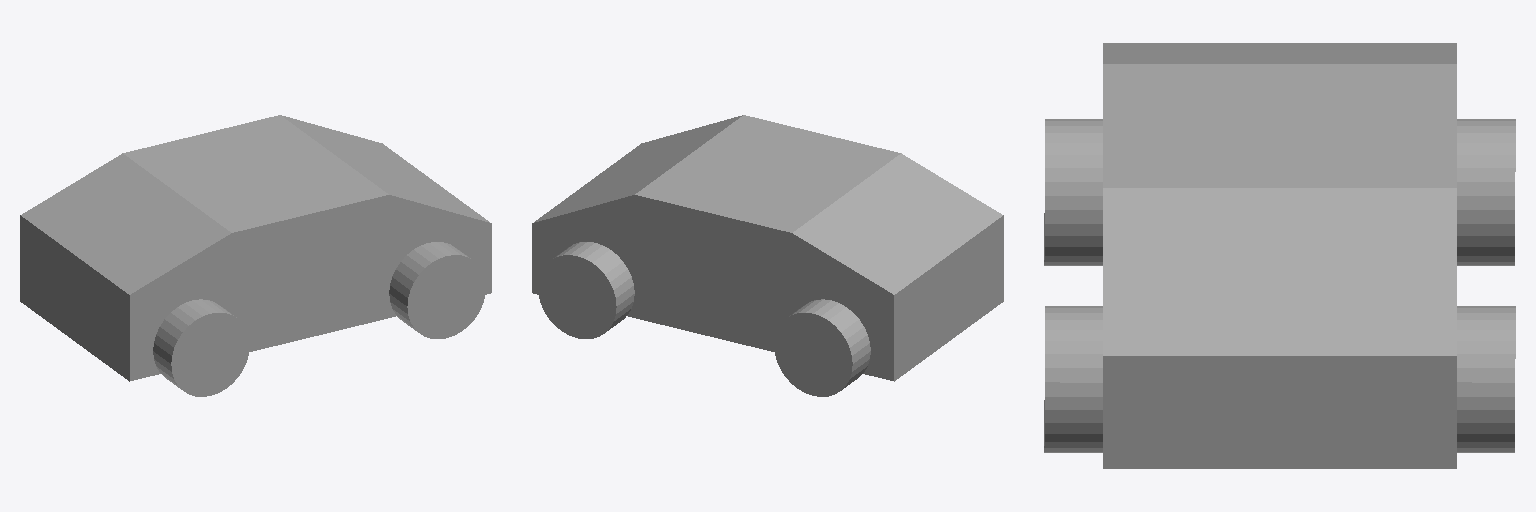
robot.urdf — rover:
<?xml version="1.0" ?>
<!-- =================================================================================== -->
<!-- |    This document was autogenerated by xacro from rover.xacro                    | -->
<!-- |    EDITING THIS FILE BY HAND IS NOT RECOMMENDED                                 | -->
<!-- =================================================================================== -->
<robot name="rover">
  <material name="silver">
    <color rgba="0.700 0.700 0.700 1.000"/>
  </material>
  <material name="wheel_black">
    <color rgba="0.325 0.337 0.353 0.5"/>
  </material>
  <material name="black">
    <color rgba="0.0 0.0 0.0"/>
  </material>
  <link name="base_link">
  </link>
  <link name="body">
    <inertial>
      <origin xyz="-0.003923470762597682 0.0 0.06851926704392347" rpy="0 0 0"/>
      <mass value="4.82539999999999"/>
      <inertia ixx = "0.027449999999999995" iyy = "0.08905" izz = "0.046079999999999996" ixy ="0" ixz ="0" iyz = "0"/>
     </inertial>
    <visual>
      <origin xyz="0 0 0" rpy="0 0 0"/>
      <geometry>
        <mesh filename="package://bot_description/meshes/body.stl" scale="0.001 0.001 0.001"/>
      </geometry>
      <material name="silver"/>
    </visual>
    <collision>
      <origin xyz="0 0 0" rpy="0 0 0"/>
      <geometry>
        <mesh filename="package://bot_description/meshes/body.stl" scale="0.001 0.001 0.001"/>
      </geometry>
    </collision>
  </link>
      
  <joint name="base_joint" type="fixed">
      <parent link="base_link"/>
      <child link="body"/>
      <origin xyz="0 0 0" rpy="0 0 0"/>
  </joint>

  <link name="base_footprint">
  </link>
    
  <joint name="footprint_joint" type="fixed">
      <parent link="base_link"/>
      <child link="base_footprint"/>
      <origin xyz="0 0 0" rpy="0 0 0"/>
  </joint>

  <link name="left_wheel1_1">
    <inertial>
      <origin xyz="0 0 0" rpy="1.57 0 0"/>
      <mass value="0.25"/>
      <inertia ixx ="0.0006583333333333334" iyy = "0.0006583333333333334" izz = "0.0012500000000000002" ixy = "0" ixz = "0" iyz = "0"/>
    </inertial>
    <visual>
      <origin xyz="0 0 0" rpy="1.57 0 0"/>
      <geometry>
        <cylinder length="0.04" radius="0.05"/>
      </geometry>
      <material name="silver"/>
    </visual>
    <collision>
      <origin xyz="0 0 0" rpy="1.57 0 0"/>
      <geometry>
        <cylinder length="0.04" radius="0.05"/>
      </geometry>
    </collision>
  </link>

  <link name="right_wheel1_1">
    <inertial>
      <origin xyz="0 0 0" rpy="1.57 0 0"/>
      <mass value="0.25"/>
      <inertia ixx ="0.0006583333333333334" iyy = "0.0006583333333333334" izz = "0.0012500000000000002" ixy = "0" ixz = "0" iyz = "0"/>
    </inertial>
    <visual>
      <origin xyz="0 0 0" rpy="1.57 0 0"/>
      <geometry>
        <cylinder length="0.04" radius="0.05"/>
      </geometry>
      <material name="silver"/>
    </visual>
    <collision>
      <origin xyz="0 0 0" rpy="1.57 0 0"/>
      <geometry>
        <cylinder length="0.04" radius="0.05"/>
      </geometry>
    </collision>
  </link>

  <link name="left_wheel2_1">
    <inertial>
      <origin xyz="0 0 0" rpy="1.57 0 0"/>
      <mass value="0.25"/>
      <inertia ixx ="0.0006583333333333334" iyy = "0.0006583333333333334" izz = "0.0012500000000000002" ixy = "0" ixz = "0" iyz = "0"/>
    </inertial>
    <visual>
      <origin xyz="0 0 0" rpy="1.57 0 0"/>
      <geometry>
        <cylinder length="0.04" radius="0.05"/>
      </geometry>
      <material name="silver"/>
    </visual>
    <collision>
      <origin xyz="0 0 0" rpy="1.57 0 0"/>
      <geometry>
        <cylinder length="0.04" radius="0.05"/>
      </geometry>
    </collision>
  </link>

  <link name="right_wheel2_1">
    <inertial>
      <origin xyz="0 0 0" rpy="1.57 0 0"/>
      <mass value="0.25"/>
      <inertia ixx ="0.0006583333333333334" iyy = "0.0006583333333333334" izz = "0.0012500000000000002" ixy = "0" ixz = "0" iyz = "0"/>
    </inertial>
    <visual>
      <origin xyz="0 0 0" rpy="1.57 0 0"/>
      <geometry>
        <cylinder length="0.04" radius="0.05"/>
      </geometry>
      <material name="silver"/>
    </visual>
    <collision>
      <origin xyz="0 0 0" rpy="1.57 0 0"/>
      <geometry>
        <cylinder length="0.04" radius="0.05"/>
      </geometry>
    </collision>
  </link>

  <joint name="revolute_1" type="continuous">
    <origin xyz="0.15 0.14 0.03" rpy="0 0 0"/>
    <parent link="body"/>
    <child link="left_wheel1_1"/>
    <axis xyz="0.0 1.0 0.0"/>
  </joint>

  <joint name="revolute_2" type="continuous">
    <origin xyz="0.15 -0.14 0.03" rpy="0 0 0"/>
    <parent link="body"/>
    <child link="right_wheel1_1"/>
    <axis xyz="0.0 -1.0 0.0"/>
  </joint>

  <joint name="revolute_3" type="continuous">
    <origin xyz="-0.15 0.14 0.03" rpy="0 0 0"/>
    <parent link="body"/>
    <child link="left_wheel2_1"/>
    <axis xyz="0.0 1.0 0.0"/>
  </joint>

  <joint name="revolute_4" type="continuous">
    <origin xyz="-0.15 -0.14 0.03" rpy="0 0 0"/>
    <parent link="body"/>
    <child link="right_wheel2_1"/>
    <axis xyz="0.0 -1.0 0.0"/>
  </joint>

  <gazebo reference="right_wheel1_1">
    <material>Gazebo/Black</material>
    <kp>100000000000000000000.0</kp>
    <kd>100000000000000000000.0</kd>
    <mu1>10</mu1>
    <mu2>10</mu2>
    <gravity>true</gravity>
  </gazebo>
  <gazebo reference="left_wheel1_1">
    <material>Gazebo/Black</material>
    <kp>100000000000000000000.0</kp>
    <kd>100000000000000000000.0</kd>
    <mu1>10</mu1>
    <mu2>10</mu2>
    <gravity>true</gravity>
  </gazebo>
  <gazebo reference="left_wheel2_1">
    <material>Gazebo/Black</material>
    <kp>100000000000000000000.0</kp>
    <kd>100000000000000000000.0</kd>
    <mu1>10</mu1>
    <mu2>10</mu2>
    <gravity>true</gravity>
  </gazebo>
  <gazebo reference="right_wheel2_1">
    <material>Gazebo/Black</material>
    <kp>100000000000000000000.0</kp>
    <kd>100000000000000000000.0</kd>
    <mu1>10</mu1>
    <mu2>10</mu2>
    <gravity>true</gravity>
  </gazebo>

  <link name="laser_frame">
    <visual>
      <geometry>
        <mesh filename="package://bot_description/meshes/sensors/rplidar.dae" scale="1.0 1.0 1.0"/>
      </geometry>
      <origin xyz="0 0 0" rpy="0 0 0"/>
      <material name="black"/>
    </visual>
    <collision>
      <origin xyz="0 0 0" rpy="0 0 0"/>
      <geometry>
        <cylinder radius="0.08" length="0.05"/>
      </geometry>
    </collision>
    <inertial>
      <origin xyz="0 0 0" rpy="0 0 0"/>
      <mass value="0.1"/>
      <inertia ixx="0.0001808333333333333" ixy="0" ixz="0" iyy="0.0001808333333333333" iyz="0" izz="0.00032"/>
    </inertial>
  </link>

  <joint name="laser_joint" type="fixed">
    <parent link="base_link"/>
    <child link="laser_frame"/>
    <origin xyz="0 0 0.15" rpy="0 0 1.57"/>
  </joint>

  <gazebo reference="laser_frame">
    <material>Gazebo/Black</material>
    <sensor name="laser" type="ray">
      <pose> 0 0 0 0 0 0 </pose>
      <visualize>true</visualize>
      <update_rate>30</update_rate>
      <ray>
        <scan>
          <horizontal>
            <samples>360</samples>
            <min_angle>-3.14</min_angle>
            <max_angle>3.14</max_angle>
          </horizontal>
        </scan>
        <range>
          <min>0.3</min>
          <max>12</max>
        </range>
      </ray>
      <plugin name="laser_controller" filename="libgazebo_ros_ray_sensor.so">
        <ros>
          <remapping>~/out:=scan</remapping>
        </ros>
        <output_type>sensor_msgs/LaserScan</output_type>
        <frame_name>laser_frame</frame_name>
      </plugin>
    </sensor>
  </gazebo>

  <gazebo>
    <plugin name="bot_joint_state" filename="libgazebo_ros_joint_state_publisher.so">
      <ros>
        <remapping>~/out:=joint_states</remapping>
      </ros>
      <update_rate>30</update_rate>

      <joint_name>revolute_1</joint_name>
      <joint_name>revolute_2</joint_name>
      <joint_name>revolute_3</joint_name>
      <joint_name>revolute_4</joint_name>
    </plugin>
  </gazebo>

  <gazebo>
    <plugin name="diff_drive_controller" filename="libgazebo_ros_diff_drive.so">
      <update_rate>100</update_rate>
      <num_wheel_pairs>2</num_wheel_pairs>

      <left_joint>revolute_1</left_joint>
      <right_joint>revolute_2</right_joint>
      <left_joint>revolute_3</left_joint>
      <right_joint>revolute_4</right_joint>

      <wheel_separation>0.24</wheel_separation>
      <wheel_diameter>0.10</wheel_diameter>

      <wheel_separation>0.24</wheel_separation>
      <wheel_diameter>0.10</wheel_diameter>

      <max_wheel_torque>15.0</max_wheel_torque>
      <max_wheel_acceleration>3.0</max_wheel_acceleration>
      <command_topic>cmd_vel</command_topic>
      <publish_odom>true</publish_odom>
      <publish_odom_tf>true</publish_odom_tf>
      <odometry_frame>odom</odometry_frame>
      <robot_base_frame>base_link</robot_base_frame>
      <publish_wheel_tf>true</publish_wheel_tf>
    </plugin>
  </gazebo>
</robot>

--- Render facts (derived) ---
Views: 3 orthographic renders of the robot side by side, from view 1: azimuth 30°, elevation 25°; view 2: azimuth 150°, elevation 25°; view 3: azimuth 270°, elevation 25°.
Model rover with 8 links and 7 joints (4 continuous, 3 fixed), rooted at base_link, posed all joints at 0.
Visible links, largest first — view 1: body, right_wheel2_1, right_wheel1_1; view 2: body, left_wheel1_1, left_wheel2_1; view 3: body, left_wheel1_1, right_wheel1_1, left_wheel2_1, right_wheel2_1.
Link boxes in pixels (bbox=[...]): body: bbox=[20, 115, 491, 381]; right_wheel2_1: bbox=[153, 299, 249, 396]; right_wheel1_1: bbox=[389, 242, 485, 338]; body: bbox=[532, 115, 1003, 381]; left_wheel1_1: bbox=[538, 242, 634, 338]; left_wheel2_1: bbox=[774, 299, 870, 396]; body: bbox=[1103, 43, 1456, 468]; left_wheel1_1: bbox=[1457, 306, 1515, 452]; right_wheel1_1: bbox=[1044, 306, 1102, 452]; left_wheel2_1: bbox=[1457, 119, 1515, 265]; right_wheel2_1: bbox=[1044, 119, 1102, 265].
Bounding box of the posed robot: 0.46 × 0.3201 × 0.17 m (x, y, z).
Meshes: 2 distinct files referenced, 1 mesh visuals loaded (1 binary STL); not drawn: 1 (reference not matched to a file when rendering).
